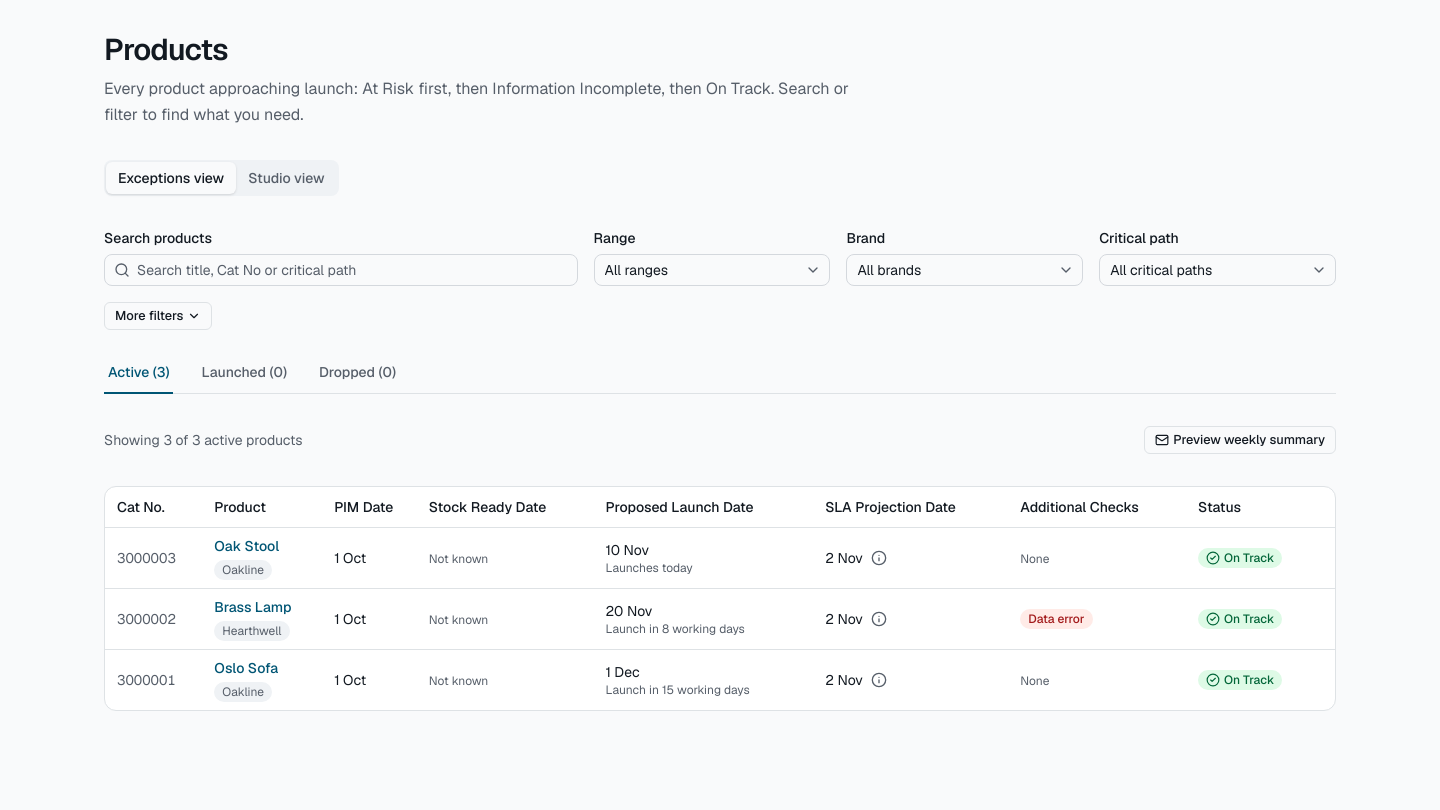
Scenario: CSV export › labels the button with the number of filtered products and carries the prototype note
Click the button "Studio view": (286, 178) [236,162,337,194]
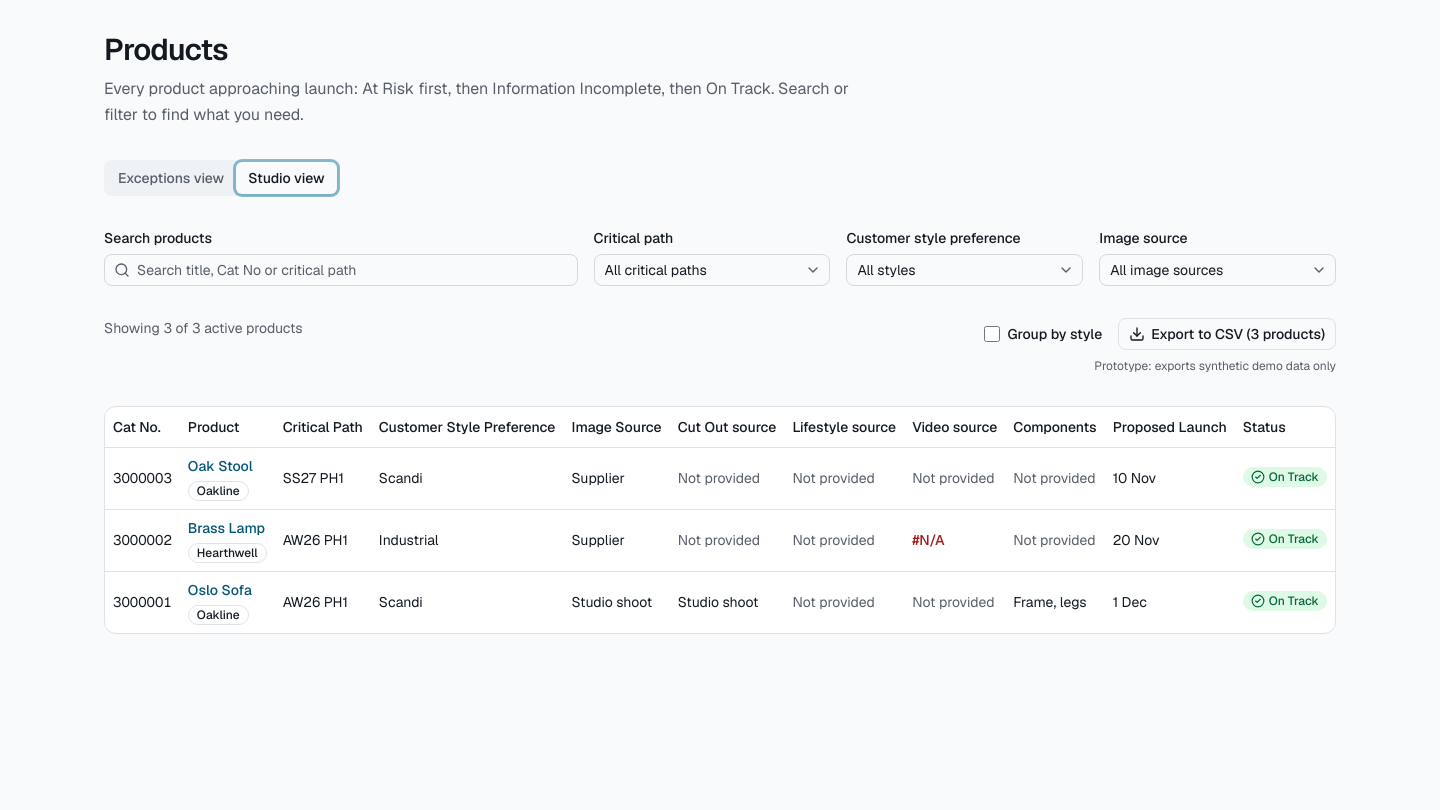
Check: the button "Export to CSV (3 products)" is shown, box [1118,318,1336,350]
Check: the text "Prototype: exports synthetic demo data only" is shown, box [1094,358,1336,374]
Click the dropdown labelled "critical path": (712, 270) [594,254,830,286]
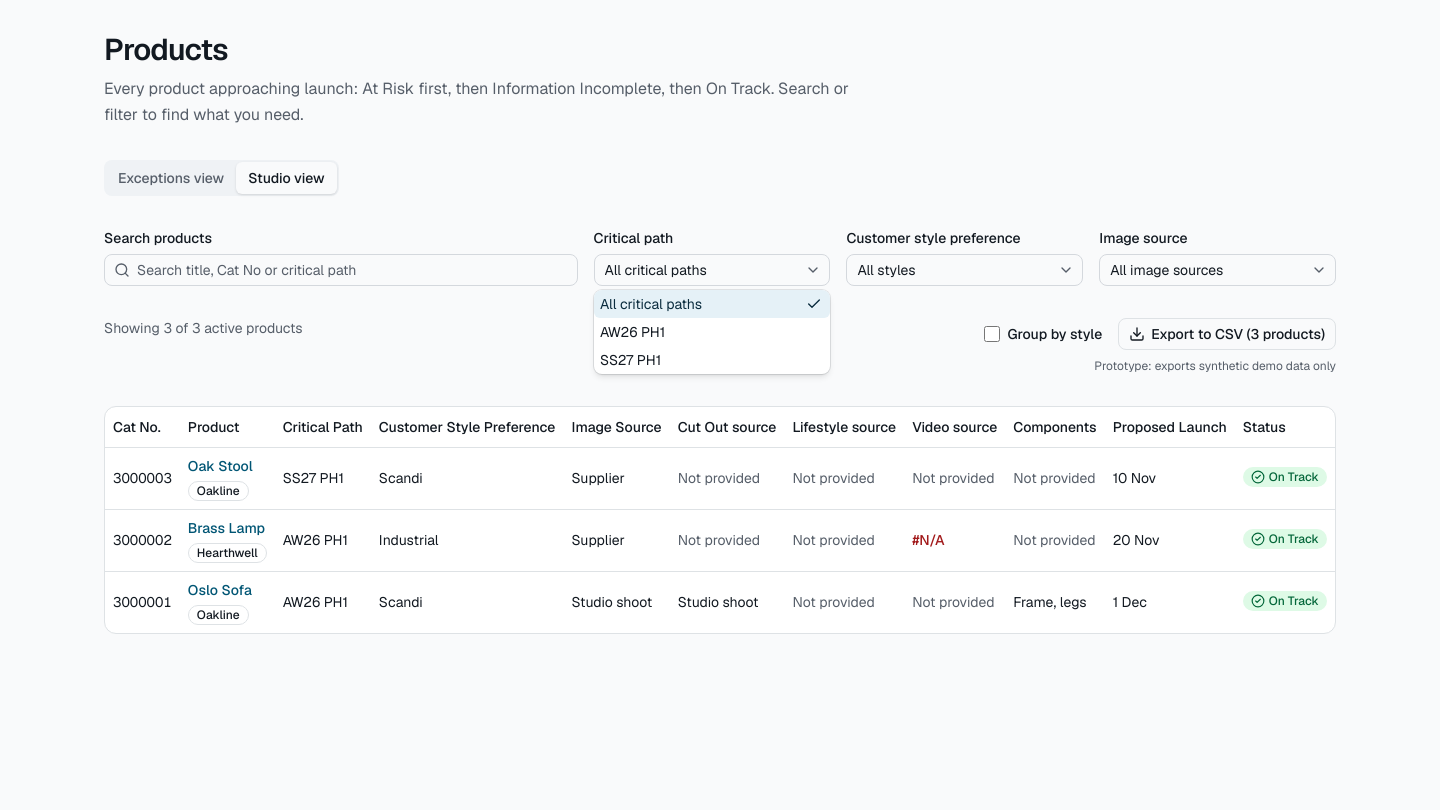
Click the option "SS27 PH1": (630, 360) [600,351,661,369]
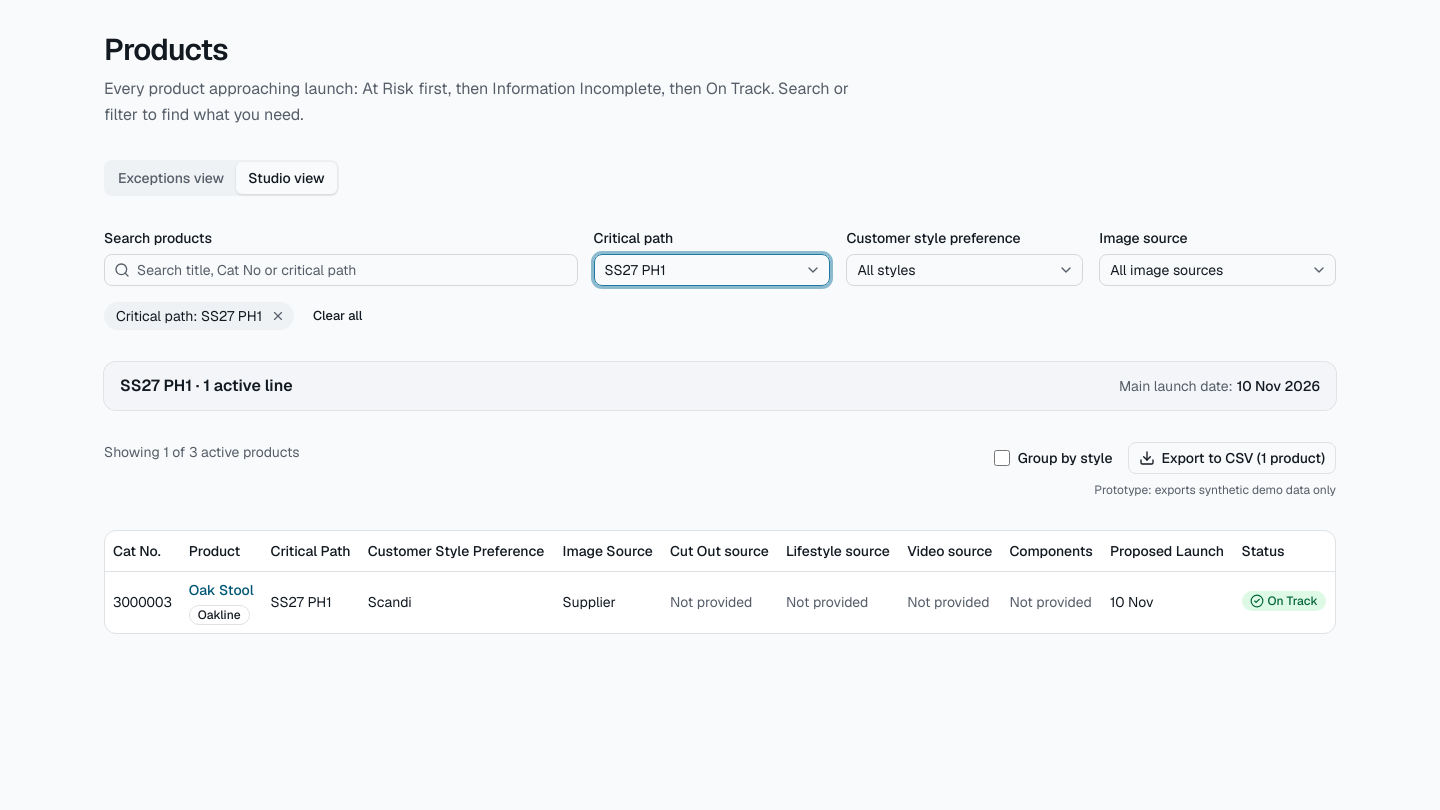
Check: the button "Export to CSV (1 product)" is shown, box [1128,442,1336,474]
